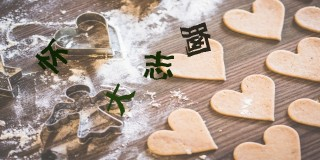大: (104, 83, 136, 117)
志: (143, 49, 174, 83)
怀: (34, 38, 68, 74)
胸: (178, 22, 213, 58)
